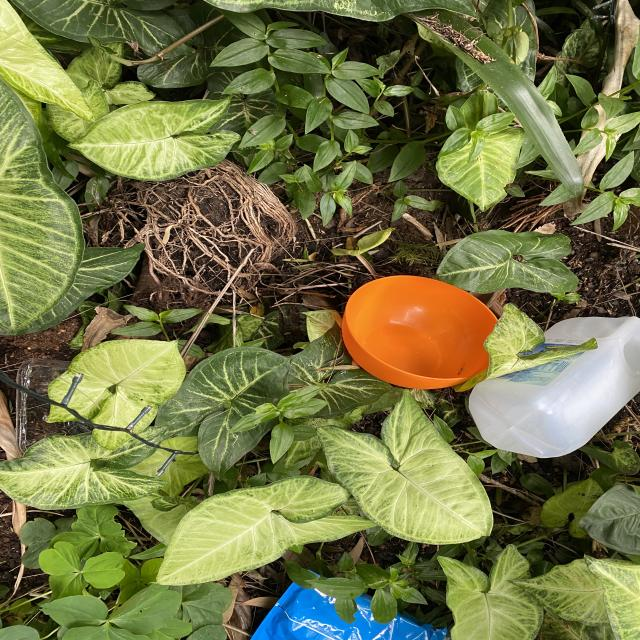bag: (250, 569, 448, 640)
bottle: (468, 315, 640, 457)
bowl: (341, 275, 499, 390)
